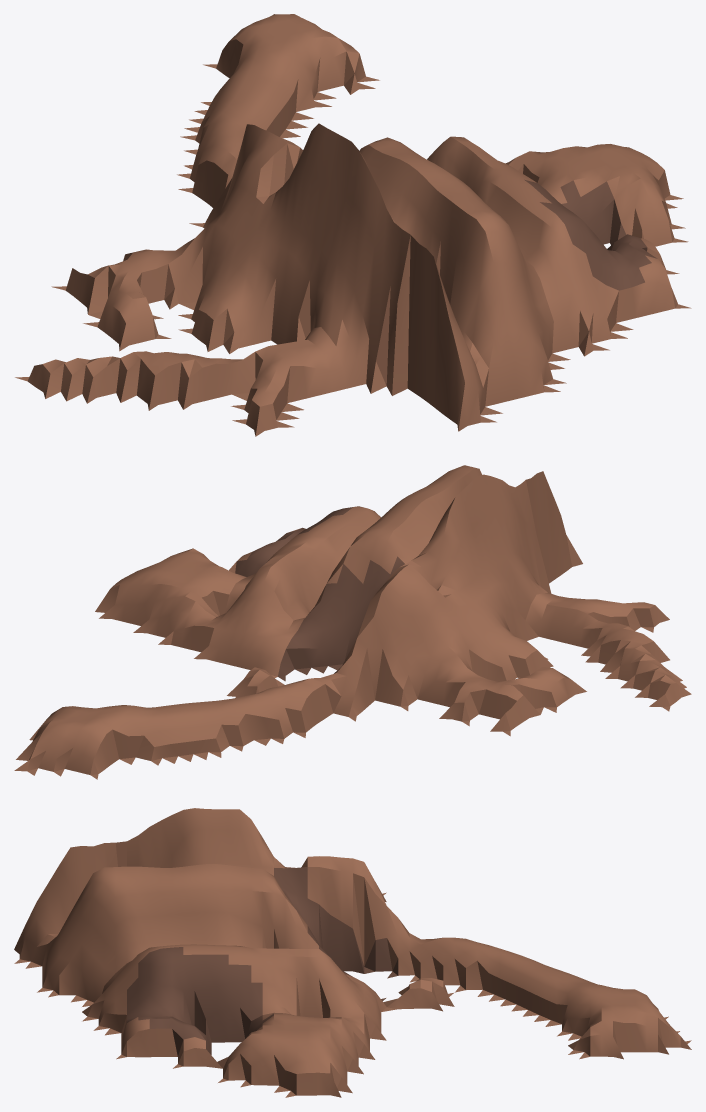
The model's file is fulgoran-ruin-medium.glb.
The picture shows the model from 3 angles, top to bottom: view 1: azimuth 30°, elevation 25°; view 2: azimuth 150°, elevation 25°; view 3: azimuth 270°, elevation 25°; orthographic projection. The views are drawn at different scales.
Visible parts, largest first — view 1: body; view 2: body; view 3: body.
Part boxes in pixels (box(x1,y1,x2,y2)): body: box(15, 14, 691, 436); body: box(14, 465, 691, 779); body: box(14, 808, 691, 1097).
Bounding box in the file's own units: 3.26 × 0.8973 × 3.75.
